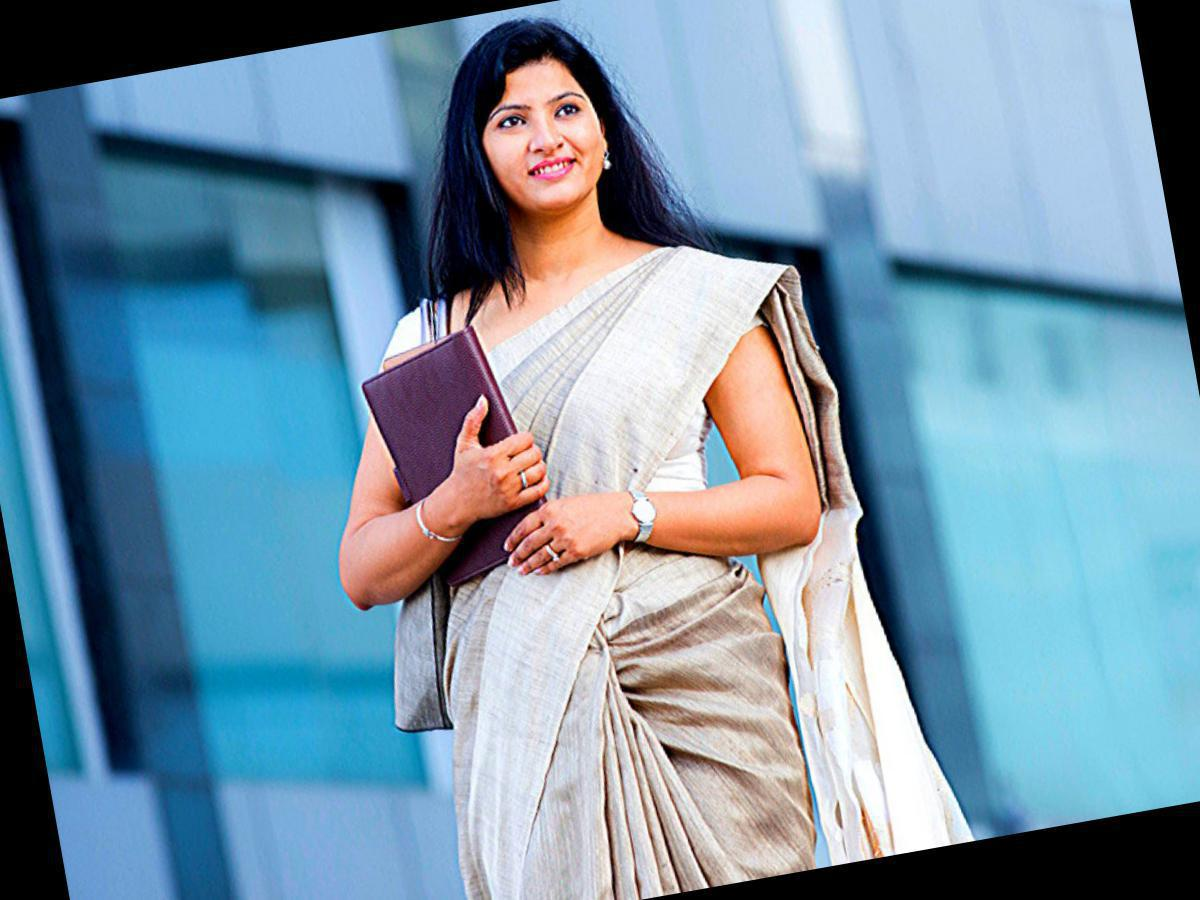Sober: (481, 64, 601, 197)
